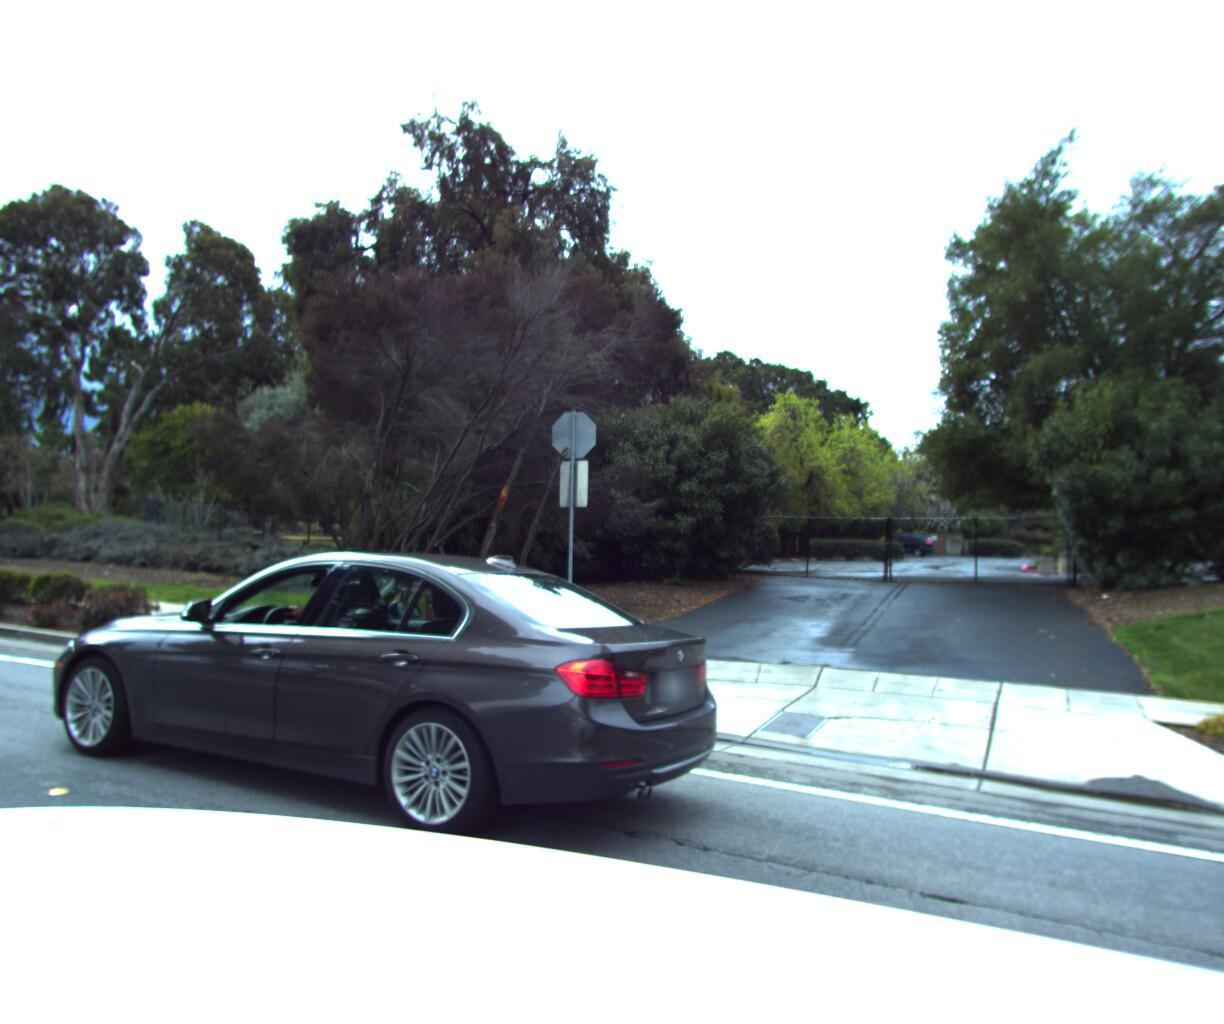car: (12, 539, 759, 923)
